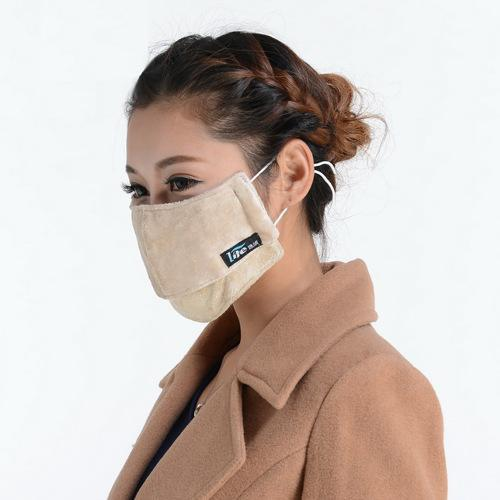OK: (121, 150, 295, 325)
